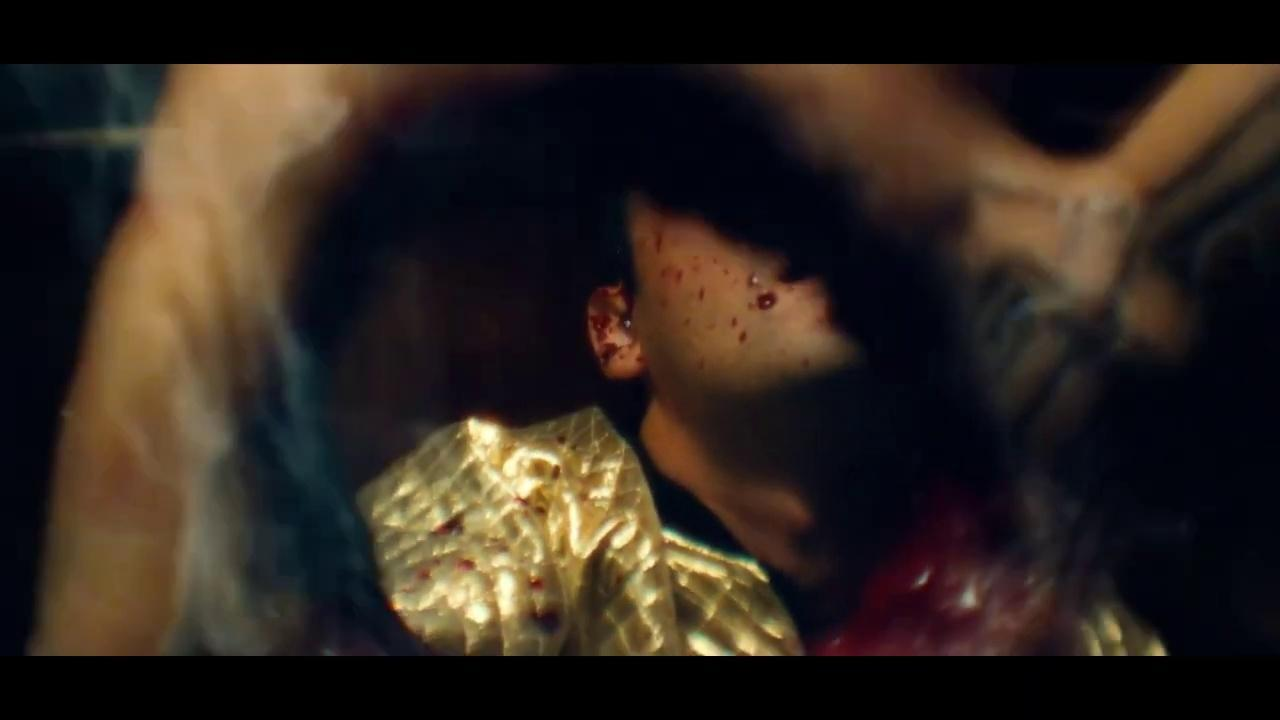Fire: (588, 201, 858, 390), (819, 510, 1073, 655), (474, 519, 546, 622), (1066, 596, 1165, 654), (430, 512, 464, 536), (516, 484, 541, 510), (554, 473, 572, 504), (547, 455, 569, 470), (457, 557, 475, 570), (513, 496, 530, 509), (539, 470, 557, 482), (417, 567, 430, 580), (433, 557, 442, 566), (556, 436, 565, 444), (546, 495, 552, 503), (536, 475, 542, 481)
